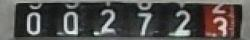digits: (208, 1, 232, 38), (134, 0, 154, 38), (166, 9, 191, 35), (92, 7, 116, 34), (62, 10, 78, 34), (26, 12, 42, 34)
